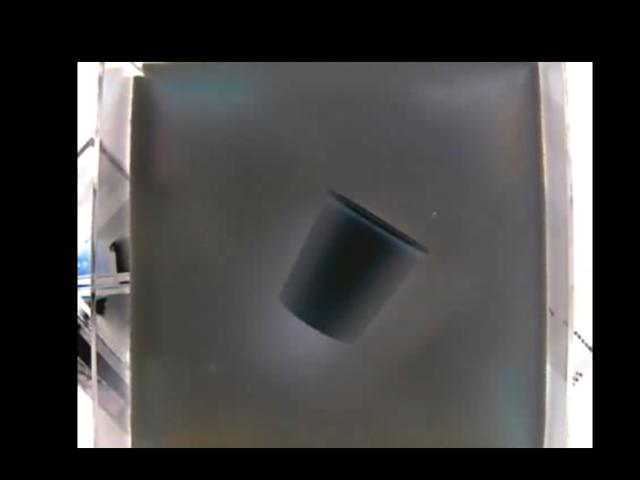Cup: (278, 189, 425, 344)
